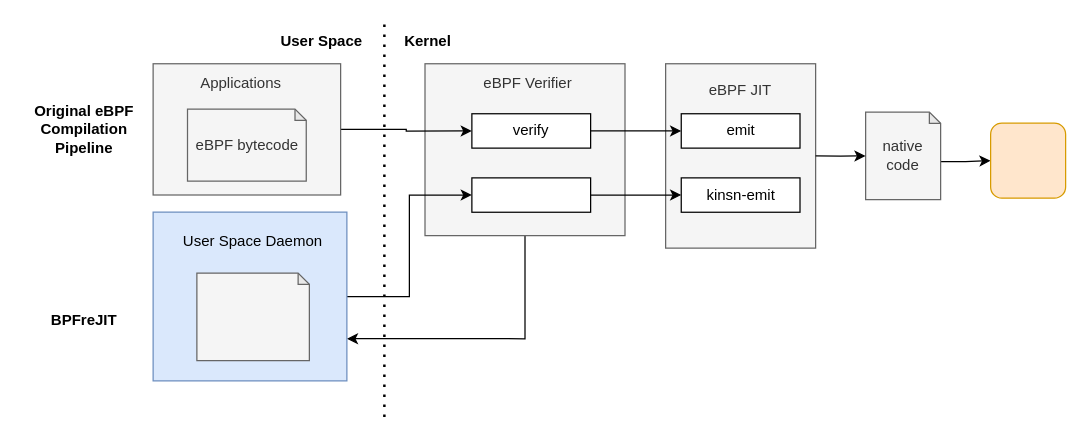
The diagram is 1088 pixels wide and 440 high, and some of its shapes have lost their labels. The centre of each missing label's shape, as x and y in pixels:
"extended eBPF bytecode" belongs at (x=252, y=316).
"kinsn-verify" belongs at (x=531, y=194).
"Live eBPF Program" belongs at (x=1027, y=160).
